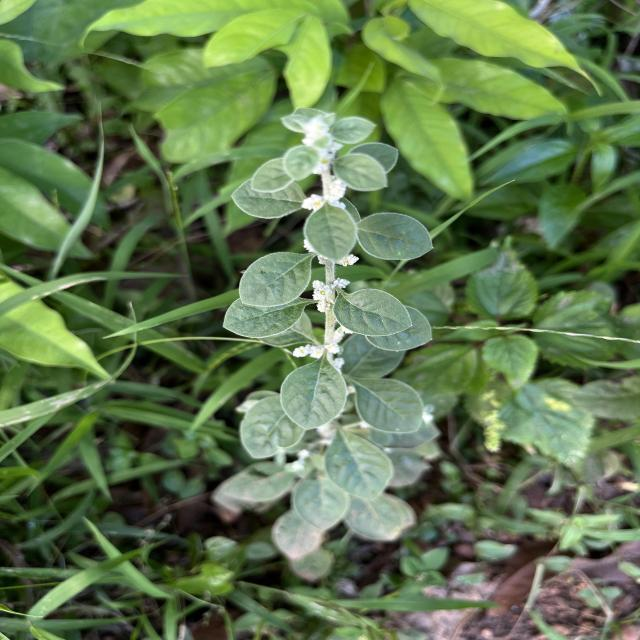Aerva lanata: (278, 358, 349, 432), (236, 250, 314, 310), (350, 210, 438, 262), (330, 286, 414, 338), (220, 292, 308, 340)
